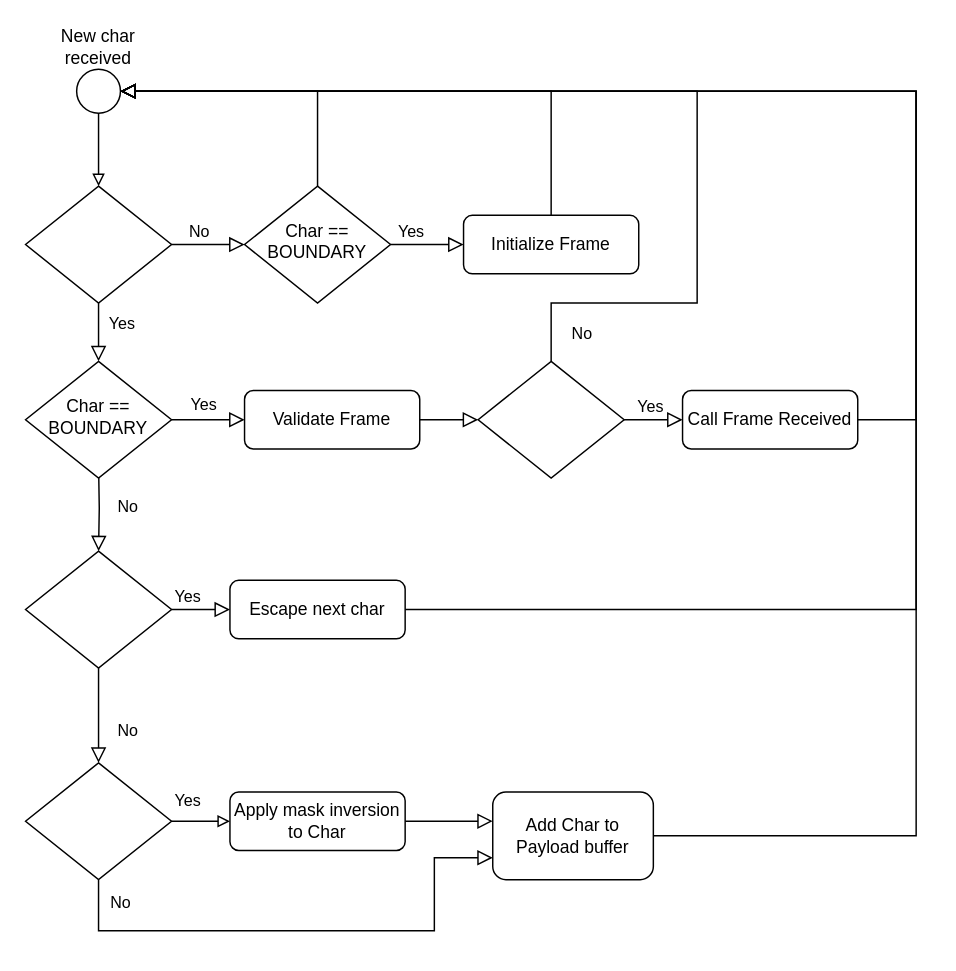
Some shapes in this 956 by 971 pixel diagram are drawn without their labels. Here are the shapes that lost their labels. From the top down, the box of each, then its label:
(24, 185, 172, 303): Frame initialized?
(477, 360, 624, 478): Validation succeeded?
(24, 550, 172, 668): Char == ESCAPE
(24, 761, 172, 880): Escape this char?
